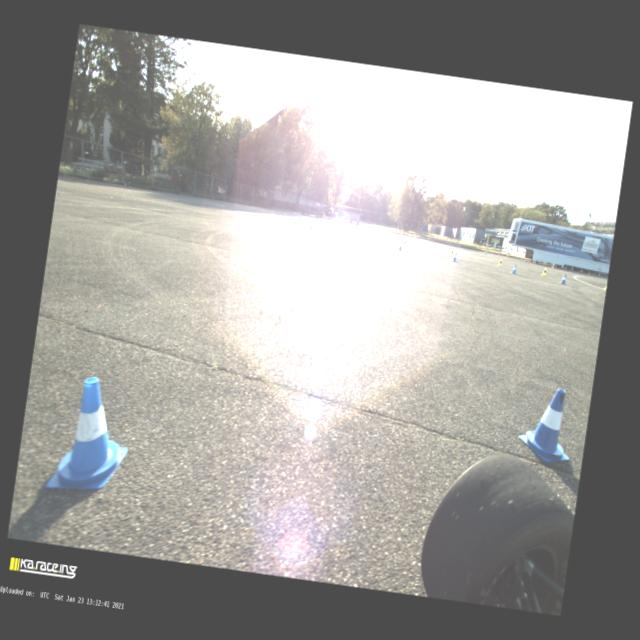blue_cone: (43, 371, 138, 500), (514, 383, 580, 466), (559, 273, 568, 285), (510, 264, 518, 274), (452, 251, 458, 262), (398, 240, 403, 250), (336, 230, 341, 238), (309, 222, 313, 230), (294, 217, 298, 224), (298, 215, 302, 222), (317, 218, 320, 224), (524, 258, 528, 262), (564, 266, 568, 270), (485, 252, 487, 256), (448, 244, 450, 246), (428, 240, 429, 242), (412, 236, 413, 238)
yellow_cone: (541, 267, 548, 277), (497, 258, 504, 267), (402, 240, 407, 248), (451, 250, 454, 257), (505, 254, 508, 260), (588, 271, 590, 276), (552, 264, 554, 269), (457, 245, 459, 250), (432, 240, 434, 244)
